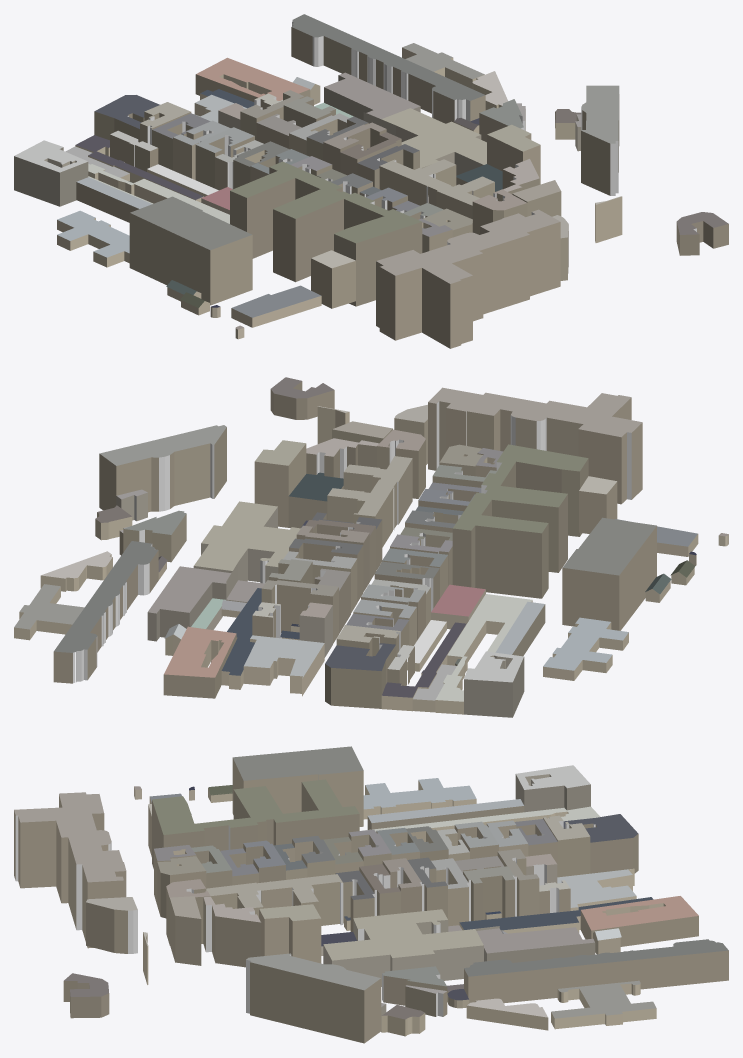
3 renders of one model, top to bottom at view 1: azimuth 30°, elevation 25°; view 2: azimuth 150°, elevation 25°; view 3: azimuth 270°, elevation 25°, orthographic. The views are drawn at different scales.
Parts seen in each view (by area): view 1: tuile; view 2: tuile; view 3: tuile.
Part boxes in pixels (x1,y1,x2,y2): tuile: [14, 14, 728, 348]; tuile: [14, 377, 728, 717]; tuile: [14, 746, 728, 1043].
Bounding box in the file's own units: 275 × 35.54 × 318.
